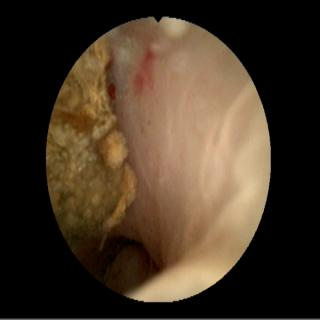stone: (48, 41, 135, 240)
tissue: (106, 20, 266, 297)
